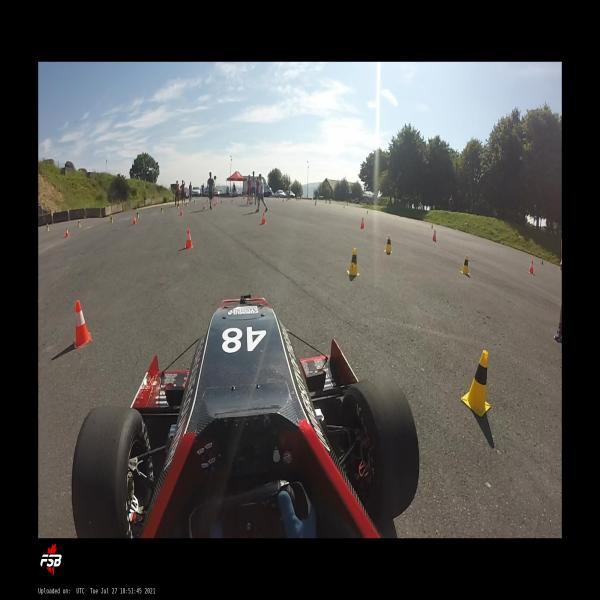orange_cone: (73, 300, 92, 348), (184, 229, 194, 249), (261, 212, 266, 225), (529, 260, 534, 273), (360, 217, 365, 229), (432, 230, 436, 242), (65, 228, 69, 237), (133, 215, 137, 224), (180, 208, 183, 215), (203, 203, 205, 210), (214, 200, 216, 206)
unknown_cone: (431, 223, 433, 230)
yellow_cone: (461, 349, 491, 417), (347, 248, 359, 276), (460, 254, 469, 276), (384, 235, 392, 254), (46, 223, 50, 231), (110, 216, 114, 224), (137, 210, 140, 218), (161, 207, 164, 213), (79, 219, 81, 227), (178, 204, 179, 210)
